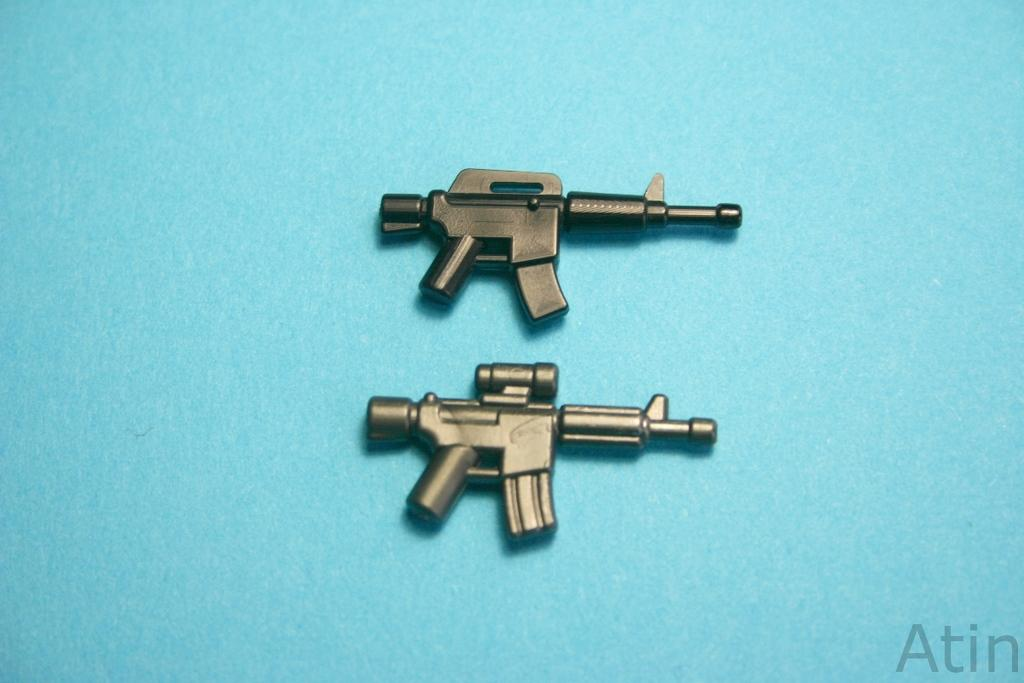Rifle: (347, 359, 739, 563), (369, 161, 745, 332)
